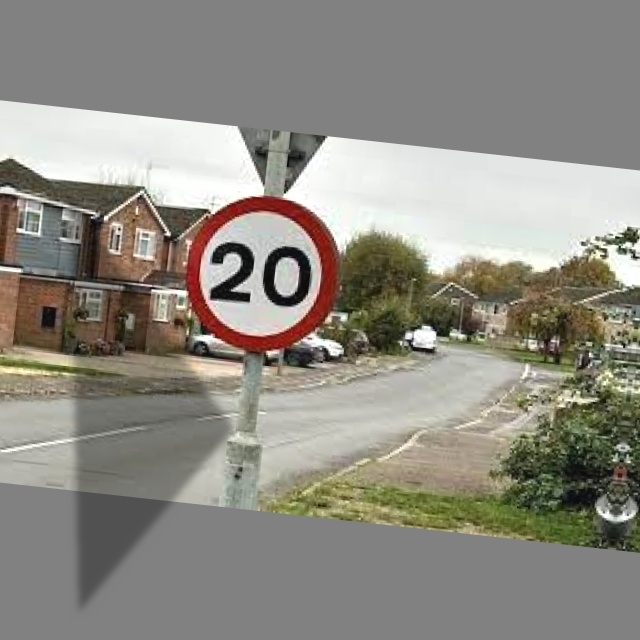Speed_Limit_20: (179, 188, 345, 356)
